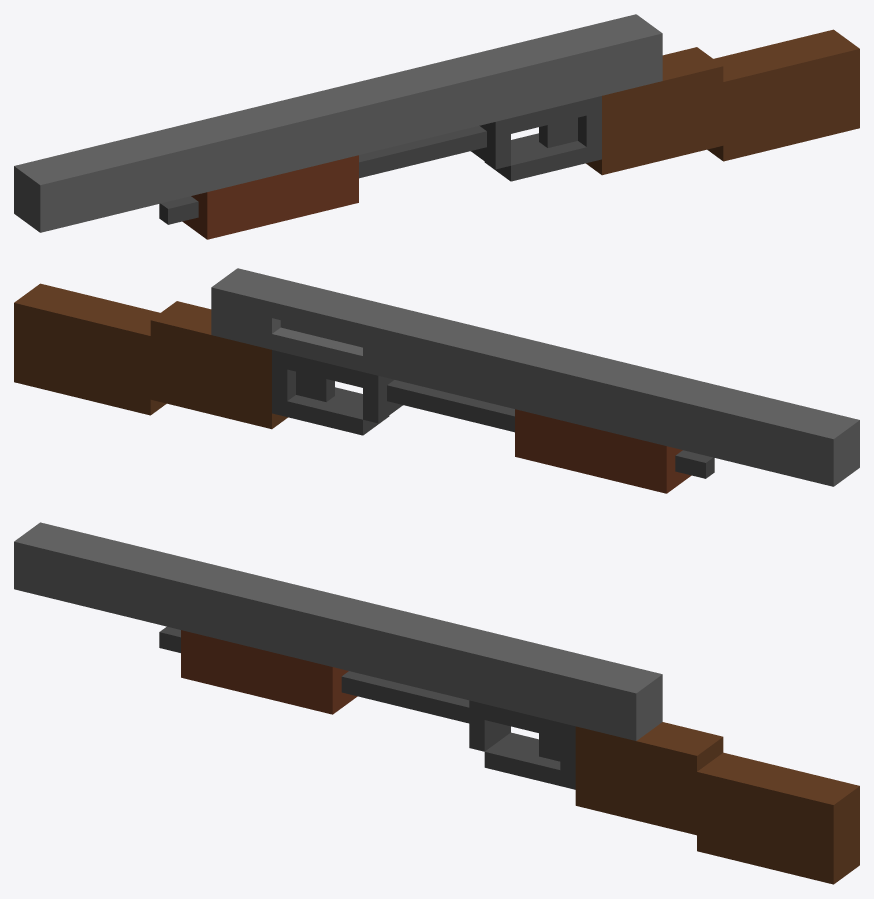
The model's file is Gun-0.obj.
3 renders of one model, top to bottom at view 1: azimuth 30°, elevation 25°; view 2: azimuth 150°, elevation 25°; view 3: azimuth 330°, elevation 25°, orthographic.
Parts seen in each view (by area): view 1: Gun-0; view 2: Gun-0; view 3: Gun-0.
Boxes of the visible parts, box(x1,y1,x2,y2) form: Gun-0: box(14, 14, 859, 239); Gun-0: box(14, 268, 859, 493); Gun-0: box(14, 522, 859, 884).
Bounding box in the file's own units: 54 × 9 × 3.
Materials: 1 (1 with a texture image).
